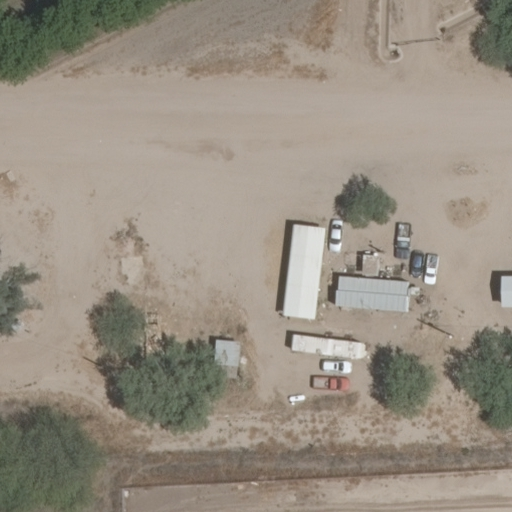DT: (445, 326, 458, 343)
